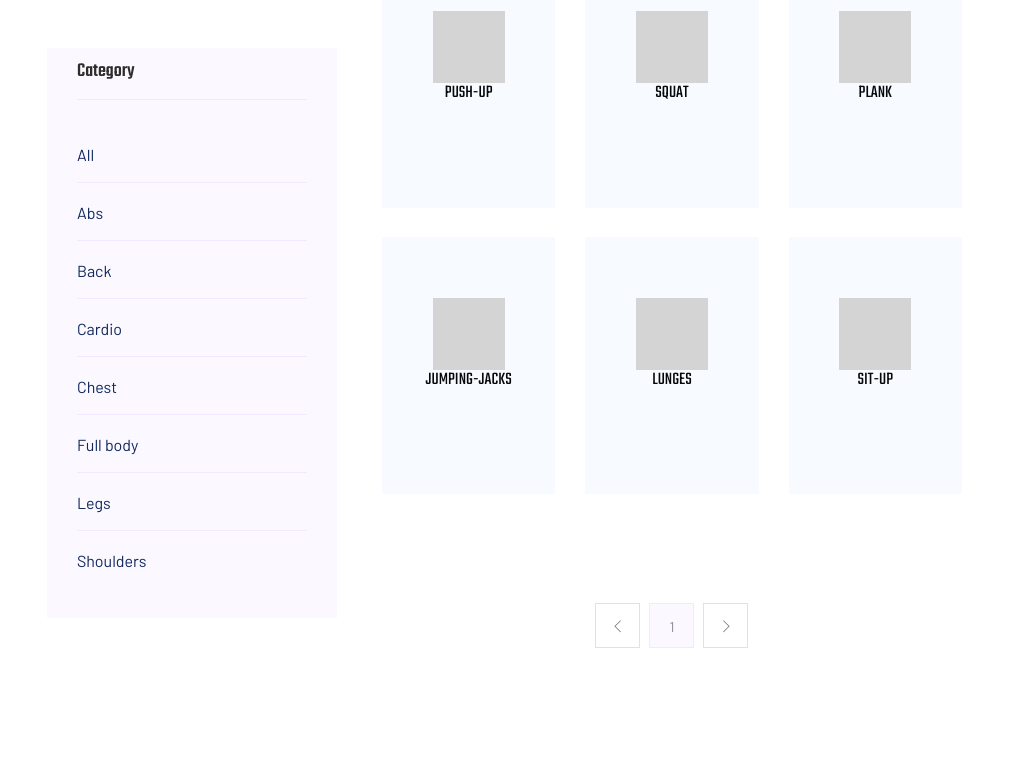
it: Tracker Component › should filter exercises by category
The width and height of the screenshot is (1024, 768).
(page scrolled)
Expected: the link "Push-Up" is shown, [445,80,492,106]
Expected: the link "Squat" is shown, [655,80,689,106]
Click the text "Legs": (94, 503) [77,488,111,518]
(page scrolled)
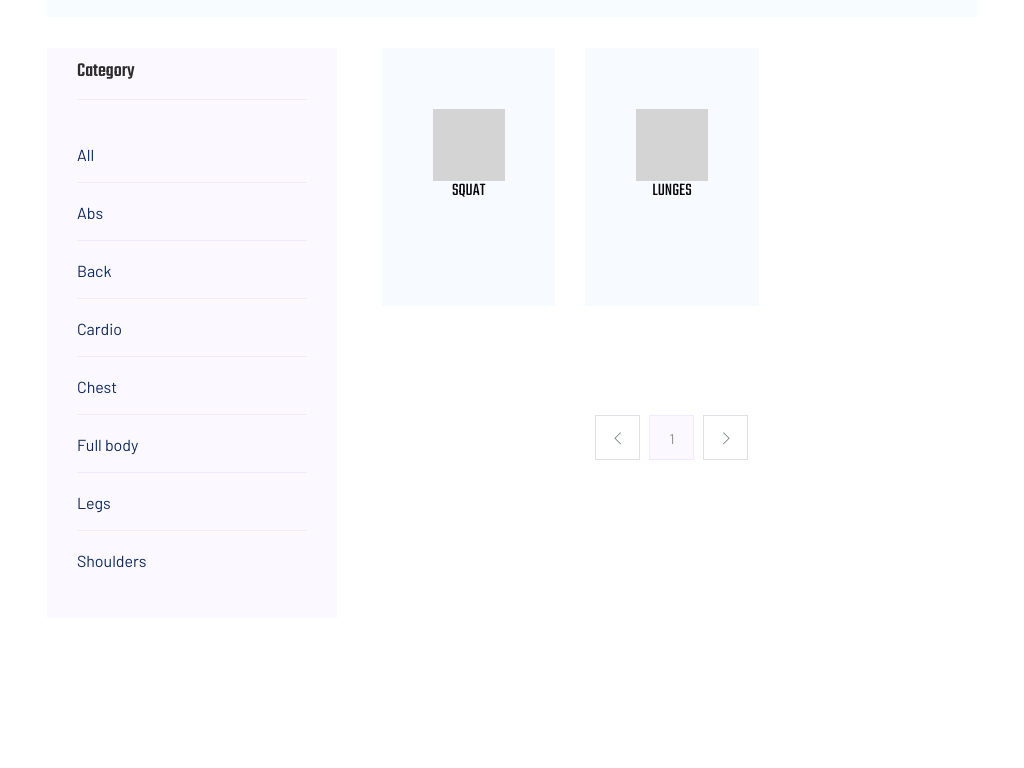
Expected: the link "Push-Up" is gone
Expected: the link "Squat" is shown, [452,178,485,204]
Expected: the link "Plank" is gone
